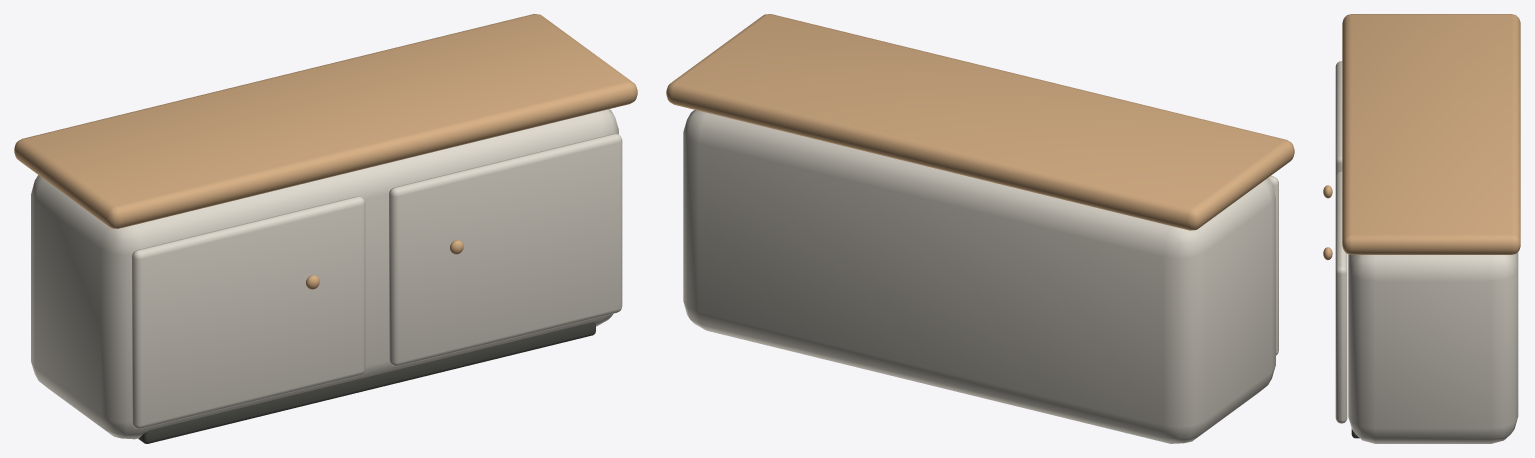
The model's file is pantry-counter.glb.
3 renders of one model, left to right at view 1: azimuth 30°, elevation 25°; view 2: azimuth 150°, elevation 25°; view 3: azimuth 270°, elevation 25°, orthographic. The views are drawn at different scales.
Parts seen in each view (by area): view 1: worktop.001, door.008, door.009, carcass.003, toe-kick.001; view 2: carcass.003, worktop.001, door.008; view 3: worktop.001, carcass.003, door.009, door.008.
Part boxes in pixels (x1,y1,x2,y2): worktop.001: (14,14,637,228); door.008: (132,196,365,428); door.009: (389,133,622,366); carcass.003: (31,109,618,439); toe-kick.001: (138,322,595,443); carcass.003: (683,110,1275,443); worktop.001: (666,14,1294,230); door.008: (1268,176,1278,355); worktop.001: (1342,14,1520,254); carcass.003: (1348,252,1518,443); door.009: (1335,171,1347,423); door.008: (1335,61,1342,176).
Bounding box in the file's own units: 2.06 × 0.92 × 0.7557.
